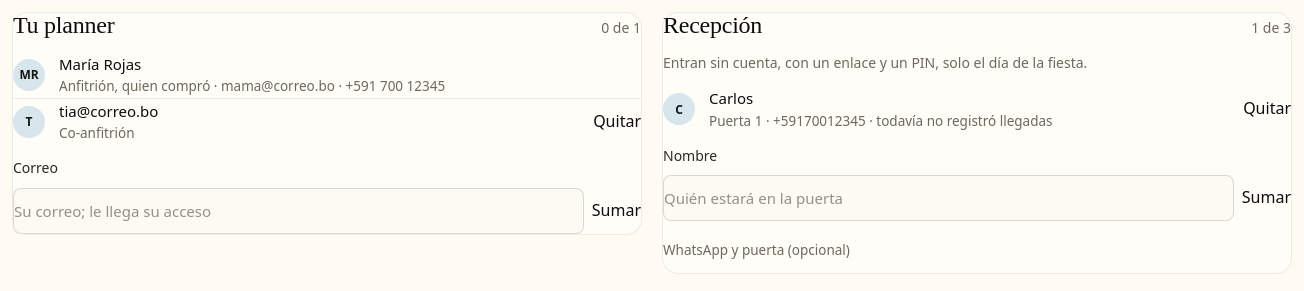
Test: EquipoCard › quitar a un portero pide confirmación
The width and height of the screenshot is (1304, 291).
Click the button with aria-label "Quitar a Carlos": (1267, 109) [1243,96,1291,122]
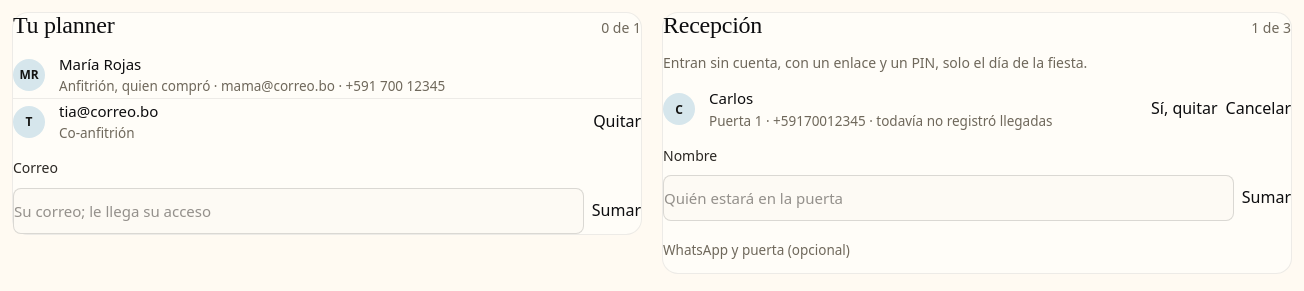
Now the button "Sí, quitar" is shown, box [1151,87,1218,131]
